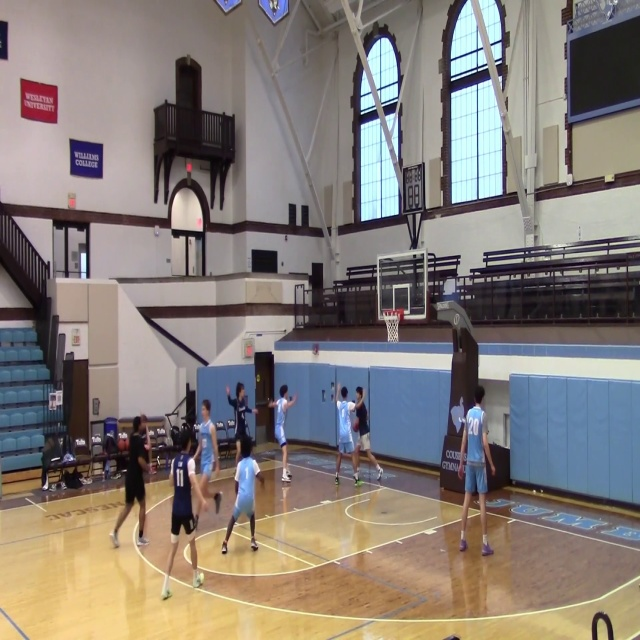Basketball: (352, 419, 359, 431)
